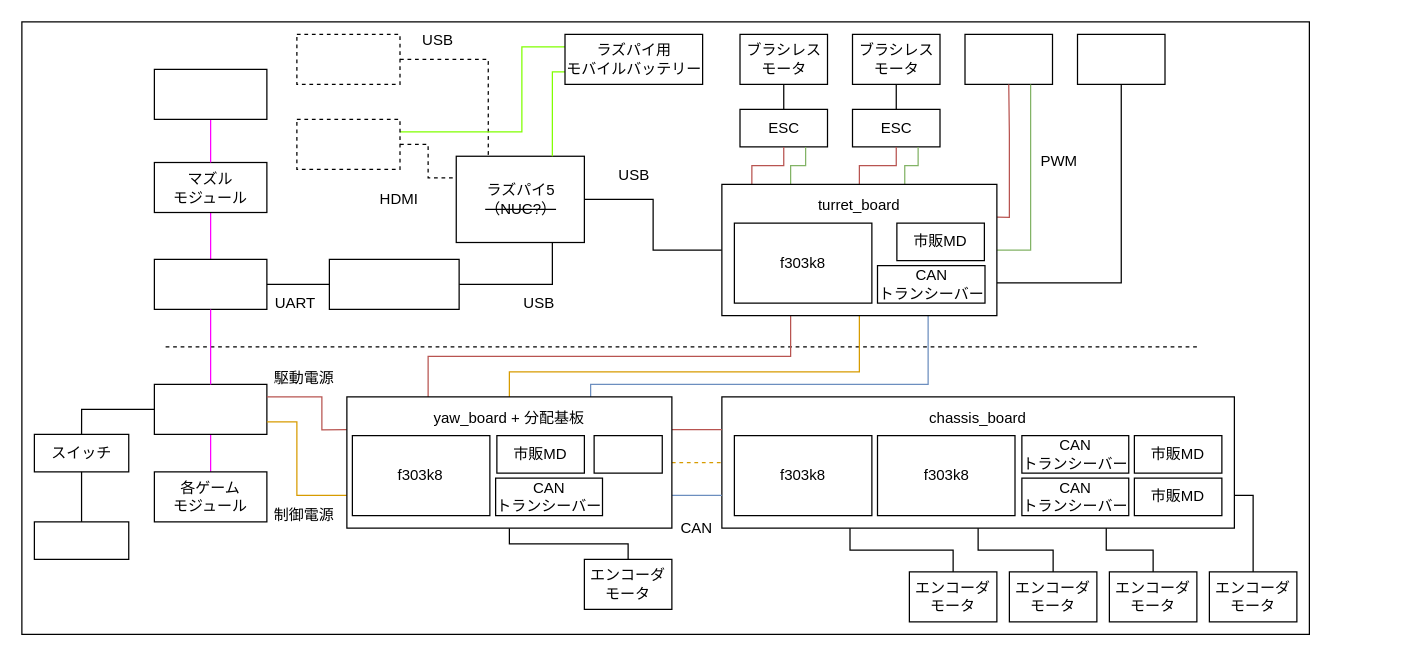
Some shapes in this 1419 by 656 pixel diagram are drawn without their labels. Each missing label, with the centre of its shape:
USB-シリアル変換モジュール: the point at 393,283
カメラ モジュール: the point at 210,93
サーボ モータ: the point at 1008,58
ジャイロ: the point at 627,453
デバック用 モニター: the point at 348,143
バッテリー: the point at 81,540
小型 モータ: the point at 1120,58
情報取得 モジュール: the point at 210,283
画像認識 カメラ: the point at 348,58
電源管理 モジュール: the point at 210,408
